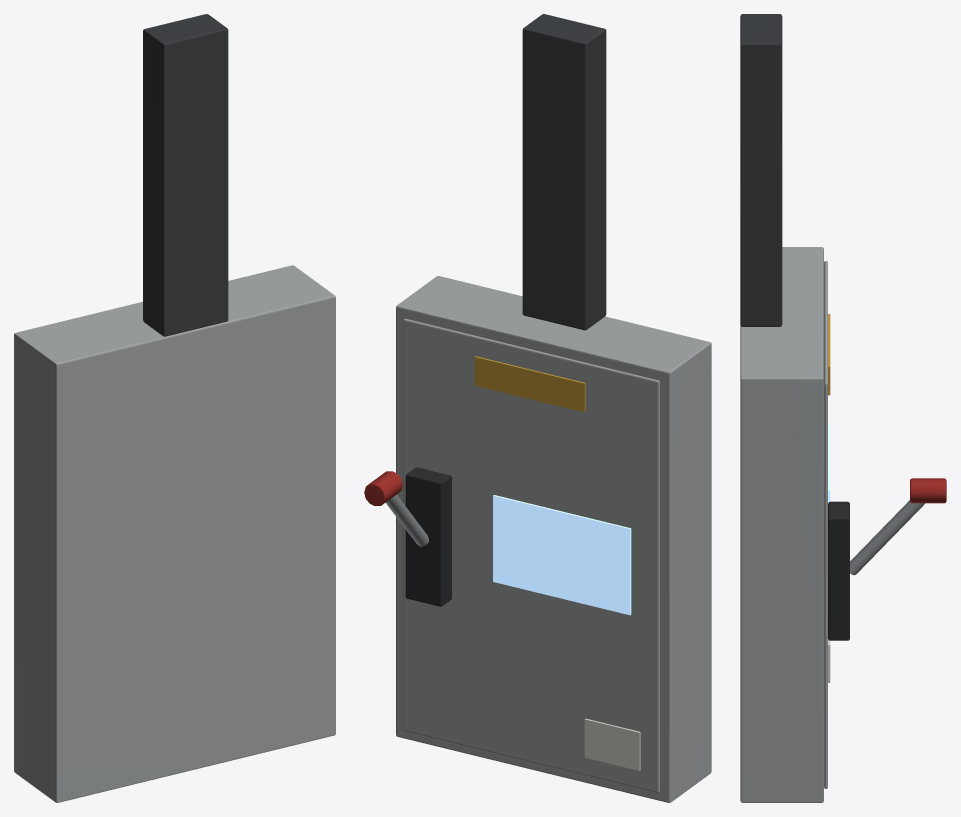
File: prop_lift_breaker.glb
3 views of the same model, side by side, from view 1: azimuth 30°, elevation 25°; view 2: azimuth 150°, elevation 25°; view 3: azimuth 270°, elevation 25° (orthographic). The views are drawn at different scales.
Visible parts, largest first — view 1: Panel; view 2: Panel, Screen; view 3: Panel.
Boxes of the visible parts, x1,y1,x2,y2 form: Panel: (14,14,335,802); Panel: (364,14,711,802); Screen: (493,495,631,615); Panel: (740,14,946,802).
Size of the model in its own units: 0.6 by 1.5 by 0.395.
